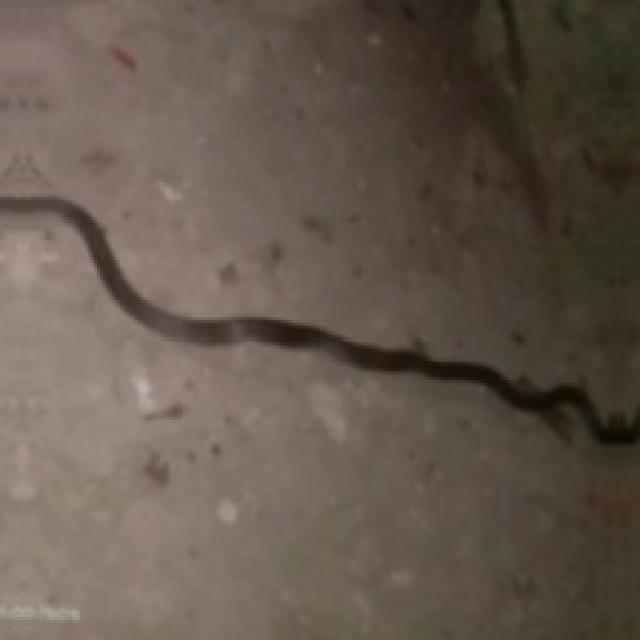king cobra: (0, 197, 637, 440)
